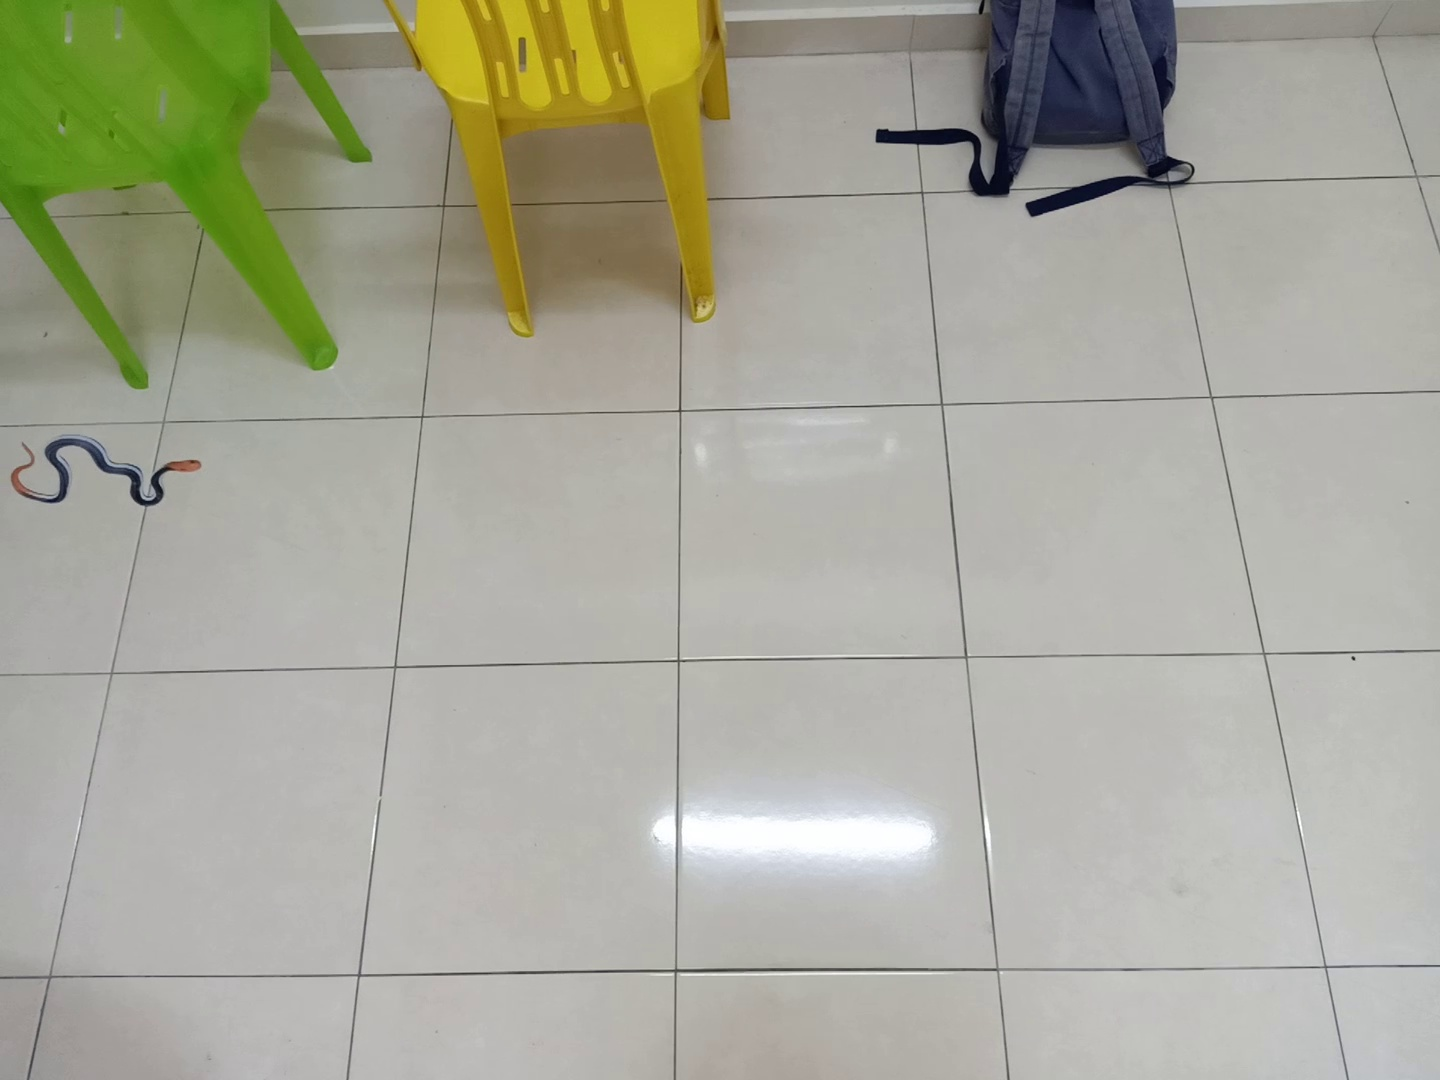snake: (5, 427, 213, 517)
